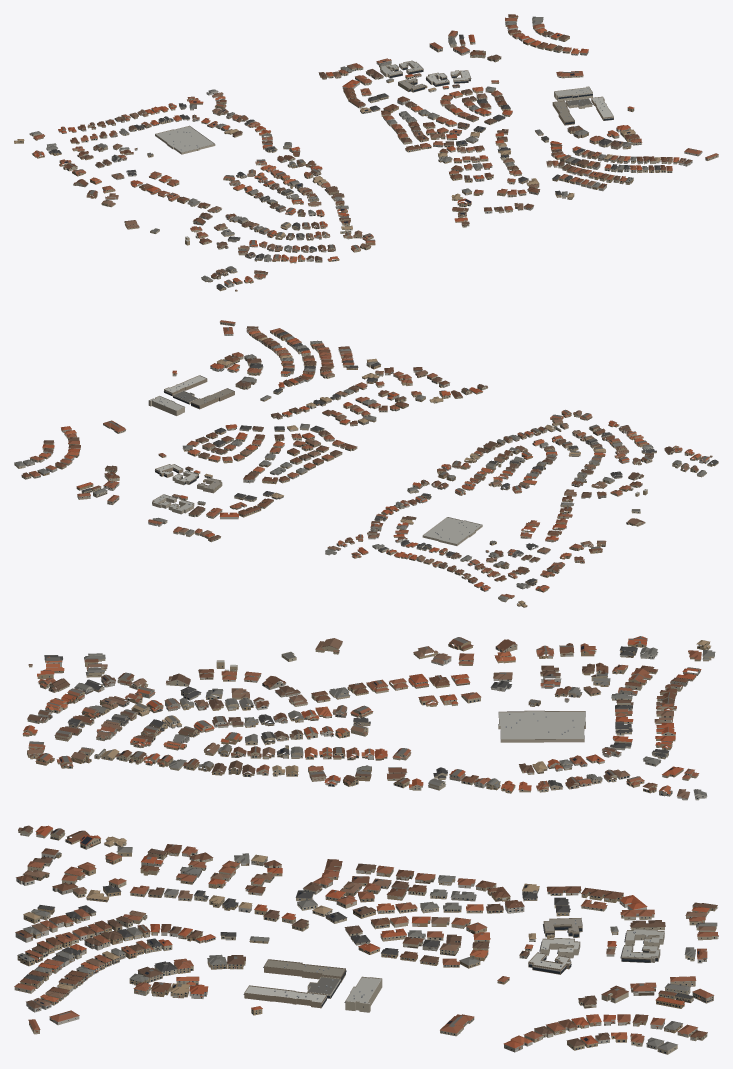
The picture shows the model from 3 angles, top to bottom: view 1: azimuth 30°, elevation 25°; view 2: azimuth 150°, elevation 25°; view 3: azimuth 270°, elevation 25°; orthographic projection. The views are drawn at different scales.
Visible parts, largest first — view 1: buildings_r5_c7_lod0; view 2: buildings_r5_c7_lod0; view 3: buildings_r5_c7_lod0.
Boxes of the visible parts, x1,y1,x2,y2 form: buildings_r5_c7_lod0: [14, 14, 718, 291]; buildings_r5_c7_lod0: [14, 320, 718, 607]; buildings_r5_c7_lod0: [14, 636, 718, 1054].
Bounding box in the file's own units: 1148 × 55.42 × 808.
